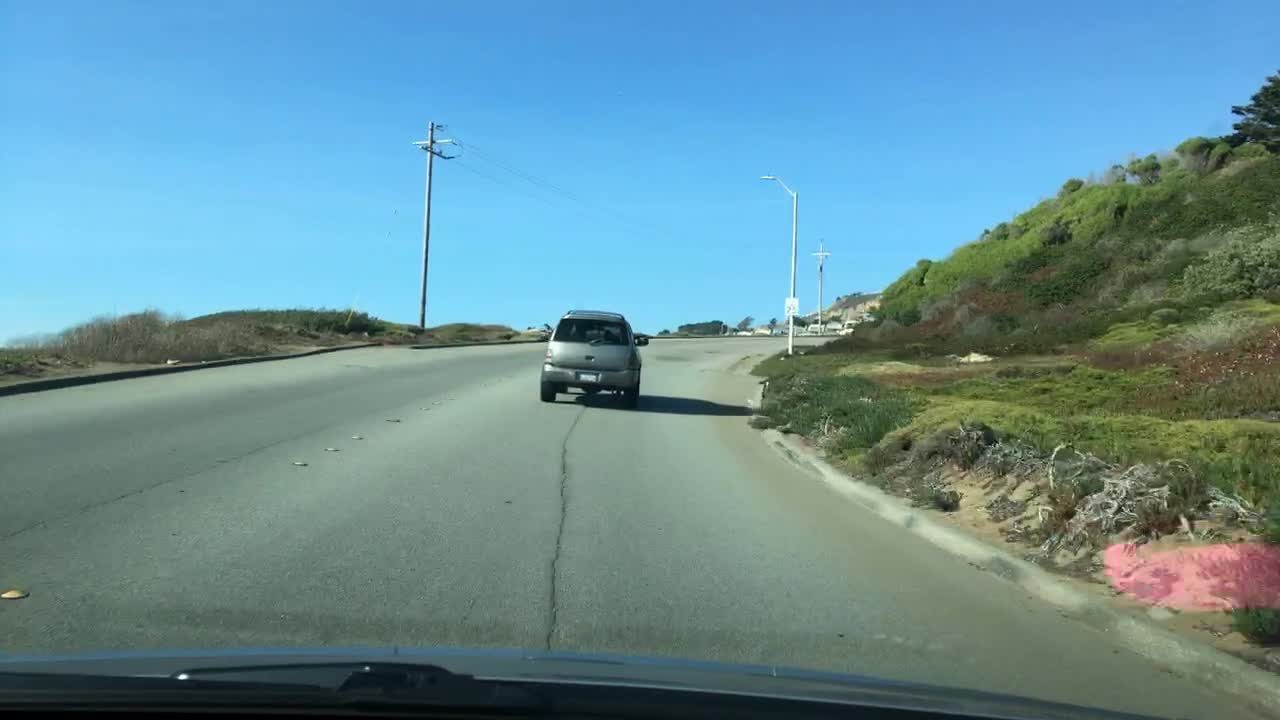car: (536, 307, 651, 407), (823, 313, 843, 329), (756, 323, 782, 334), (806, 317, 822, 333), (843, 317, 860, 329), (733, 327, 754, 335)
traffic sign: (784, 298, 796, 314)
